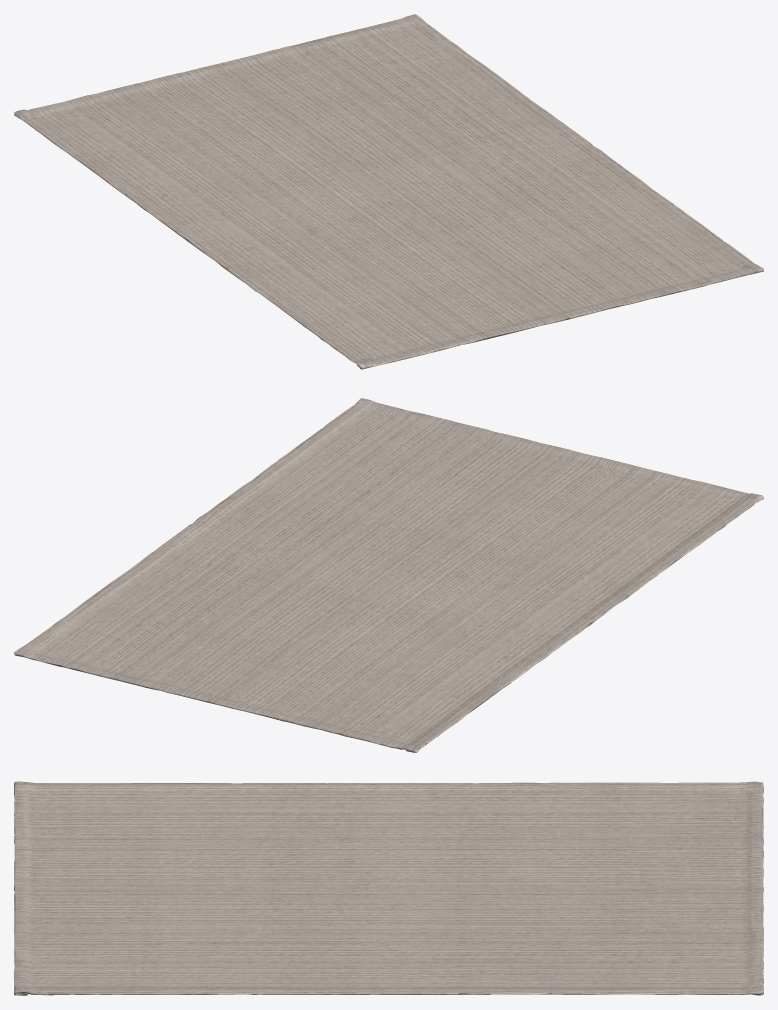
File: tiphede_rug_flatwoven_natural_black.glb
3 views of the same model, one above another, from view 1: azimuth 30°, elevation 25°; view 2: azimuth 150°, elevation 25°; view 3: azimuth 270°, elevation 25° (orthographic). The views are drawn at different scales.
Parts seen in each view (by area): view 1: ASY_ART_40456757_S01_NV01; view 2: ASY_ART_40456757_S01_NV01; view 3: ASY_ART_40456757_S01_NV01.
Part boxes in pixels (left/top/right/bottom): ASY_ART_40456757_S01_NV01: left=14, top=14, right=763, bottom=369; ASY_ART_40456757_S01_NV01: left=14, top=398, right=763, bottom=752; ASY_ART_40456757_S01_NV01: left=14, top=781, right=763, bottom=995.
Size of the model in its own units: 1.2 by 0.0114 by 1.8.
Materials: 1 (1 with a texture image).
